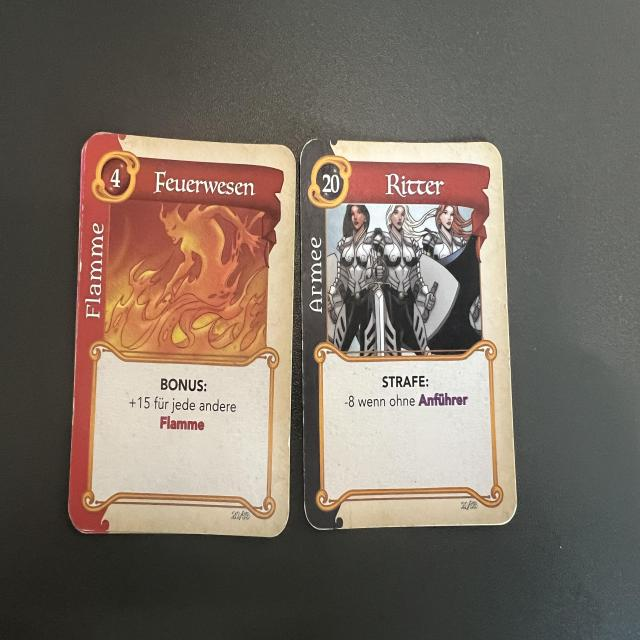Fire Elemental: (65, 122, 297, 538)
Knights: (300, 136, 521, 531)
